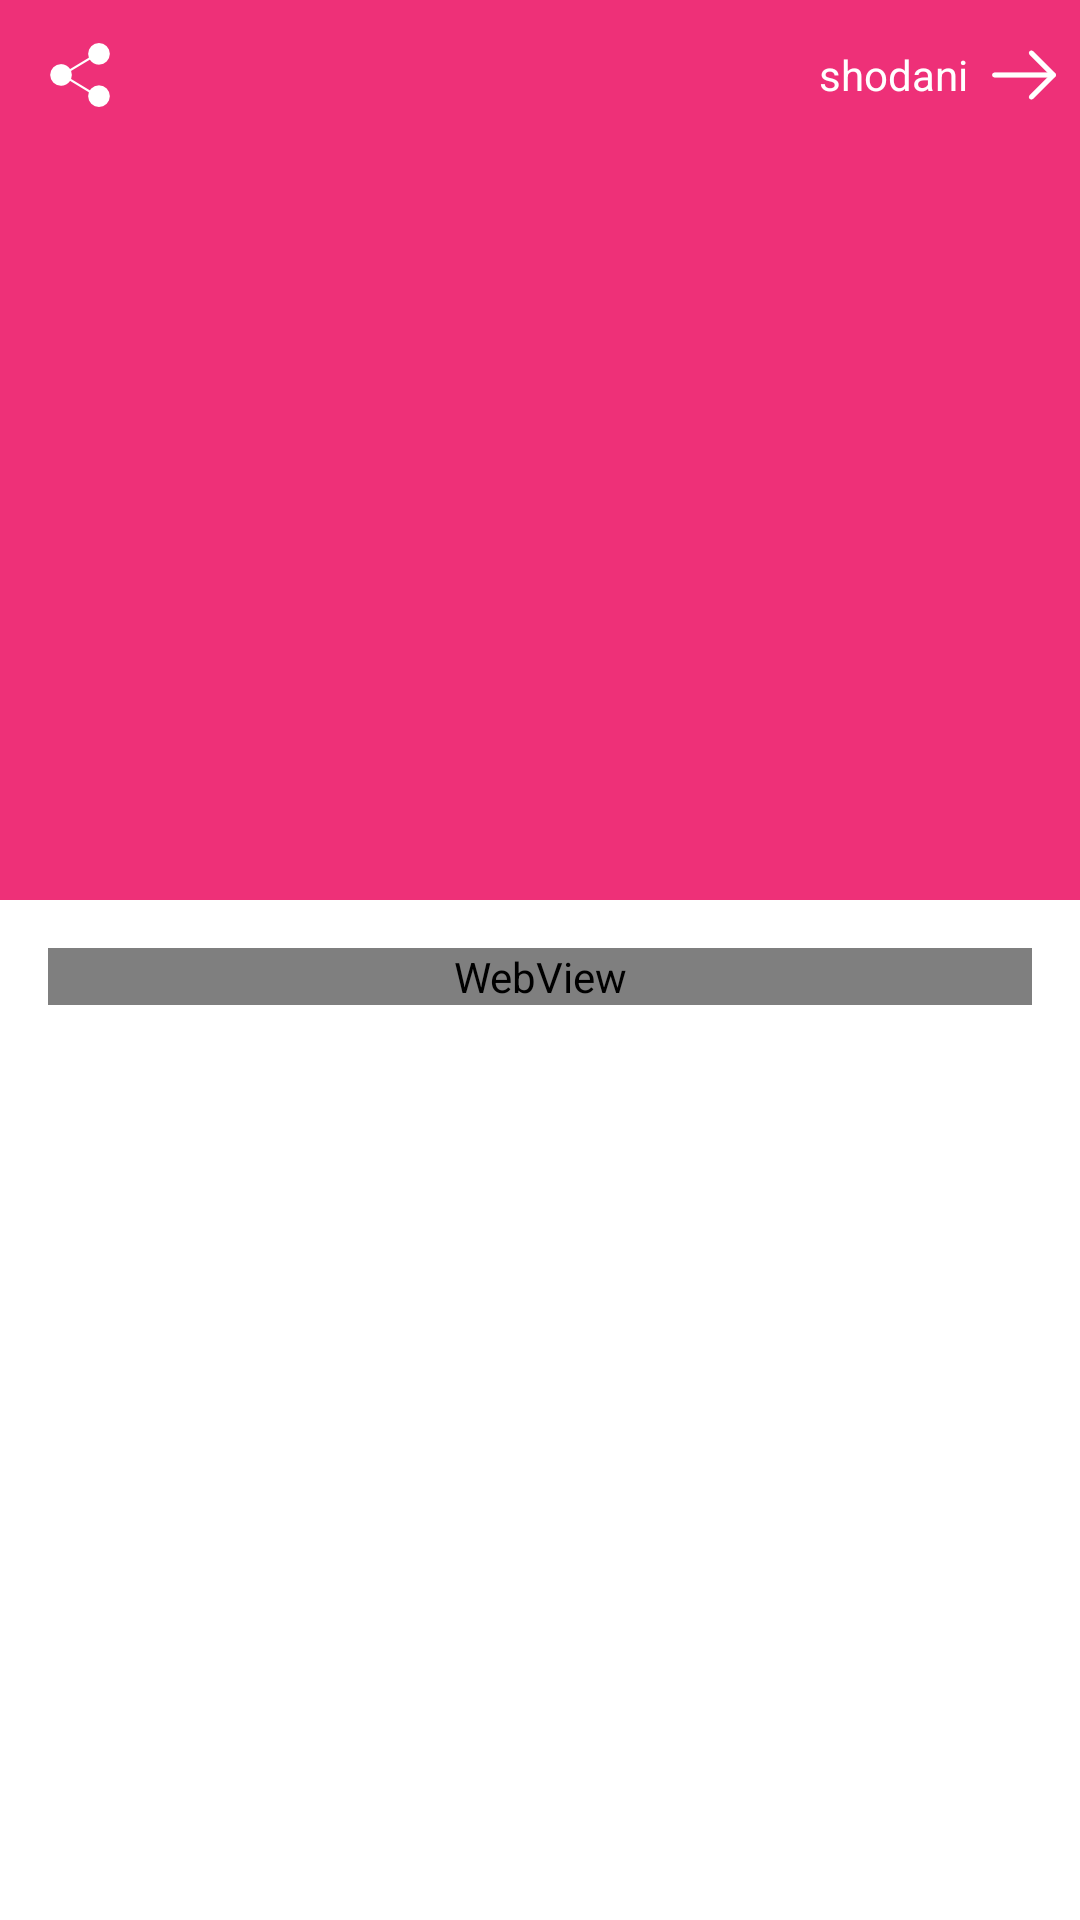

Where icons sit on this 1080×1920 app screen, as (x1, y1, x2, y2):
share: (50, 43, 110, 107)
